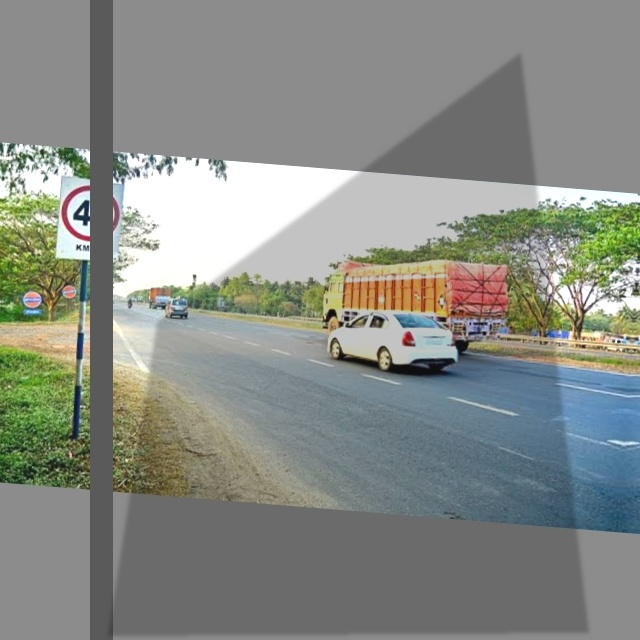Speed_Limit_40: (55, 173, 127, 267)
